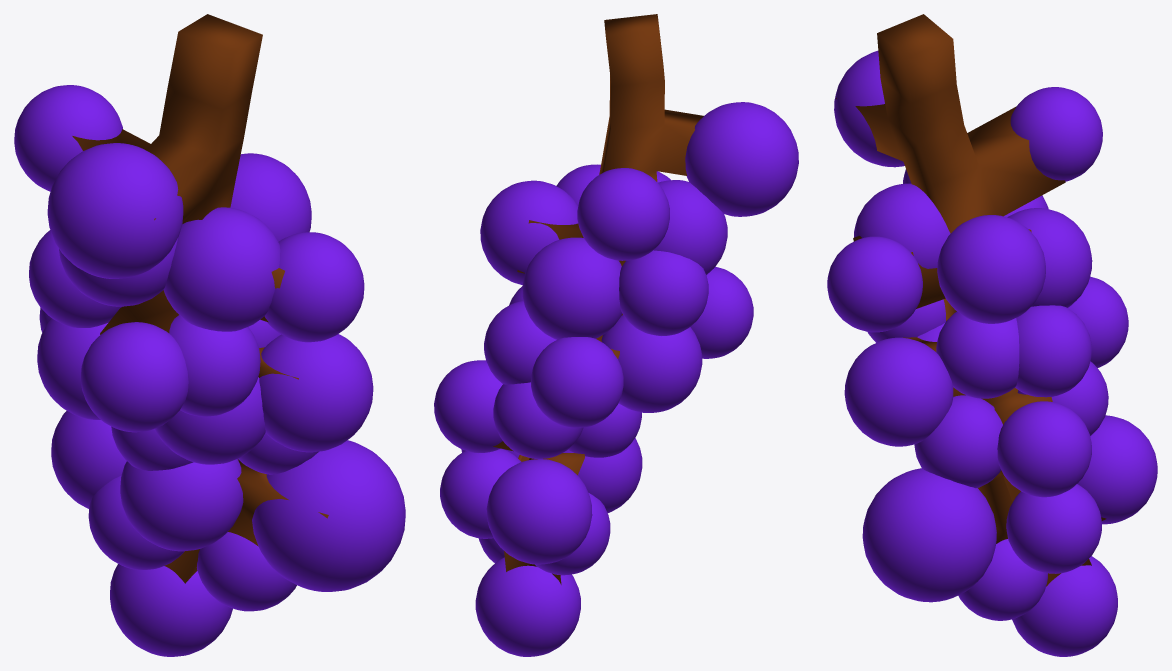
The model's file is grapes.fbx.
The picture shows the model from 3 angles, left to right: view 1: azimuth 30°, elevation 25°; view 2: azimuth 150°, elevation 25°; view 3: azimuth 270°, elevation 25°; orthographic projection. The views are drawn at different scales.
Parts seen in each view (by area): view 1: Cube, Sphere.008, Sphere, Sphere.016, Sphere.010, Sphere.003, Sphere.009, Sphere.001, Sphere.007, Sphere.002, Sphere.025, Sphere.020 (+9 smaller); view 2: Cube, Sphere, Sphere.006, Sphere.012, Sphere.007, Sphere.002, Sphere.004, Sphere.014, Sphere.011, Sphere.022, Sphere.005, Sphere.013 (+8 smaller); view 3: Cube, Sphere.008, Sphere.011, Sphere.010, Sphere.001, Sphere.005, Sphere.007, Sphere.019, Sphere.002, Sphere.006, Sphere.023, Sphere.024 (+8 smaller).
Boxes of the visible parts, bbox=[...] form: Cube: bbox=[72, 14, 328, 583]; Sphere.008: bbox=[252, 440, 405, 591]; Sphere: bbox=[47, 143, 183, 278]; Sphere.016: bbox=[163, 207, 280, 331]; Sphere.010: bbox=[259, 334, 373, 452]; Sphere.003: bbox=[80, 322, 188, 432]; Sphere.009: bbox=[120, 459, 243, 551]; Sphere.001: bbox=[264, 232, 364, 342]; Sphere.007: bbox=[110, 564, 232, 656]; Sphere.002: bbox=[14, 85, 122, 191]; Sphere.025: bbox=[169, 315, 260, 416]; Sphere.020: bbox=[196, 532, 296, 611]; Cube: bbox=[493, 14, 703, 584]; Sphere: bbox=[685, 102, 798, 216]; Sphere.006: bbox=[486, 459, 592, 564]; Sphere.012: bbox=[522, 237, 622, 339]; Sphere.007: bbox=[475, 557, 580, 656]; Sphere.002: bbox=[577, 168, 669, 260]; Sphere.004: bbox=[531, 337, 623, 427]; Sphere.014: bbox=[601, 315, 702, 412]; Sphere.011: bbox=[480, 180, 578, 284]; Sphere.022: bbox=[619, 250, 708, 335]; Sphere.005: bbox=[434, 360, 502, 452]; Sphere.013: bbox=[653, 180, 727, 274]; Cube: bbox=[836, 14, 1106, 586]; Sphere.008: bbox=[862, 468, 996, 602]; Sphere.011: bbox=[937, 215, 1045, 323]; Sphere.010: bbox=[844, 337, 953, 446]; Sphere.001: bbox=[827, 236, 922, 332]; Sphere.005: bbox=[997, 401, 1091, 497]; Sphere.007: bbox=[1012, 556, 1117, 656]; Sphere.019: bbox=[1006, 484, 1101, 573]; Sphere.002: bbox=[1010, 87, 1102, 181]; Sphere.006: bbox=[1077, 415, 1157, 524]; Sphere.023: bbox=[1015, 305, 1091, 397]; Sphere.024: bbox=[914, 395, 1002, 488].
Size of the model in its own units: 193 by 357 by 176.
